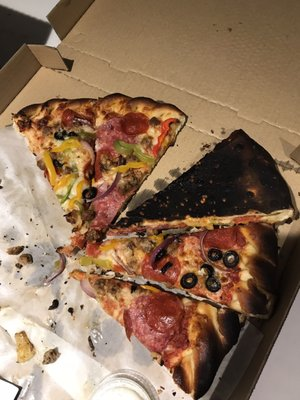sandwich: (2, 91, 299, 398), (12, 93, 188, 251)
